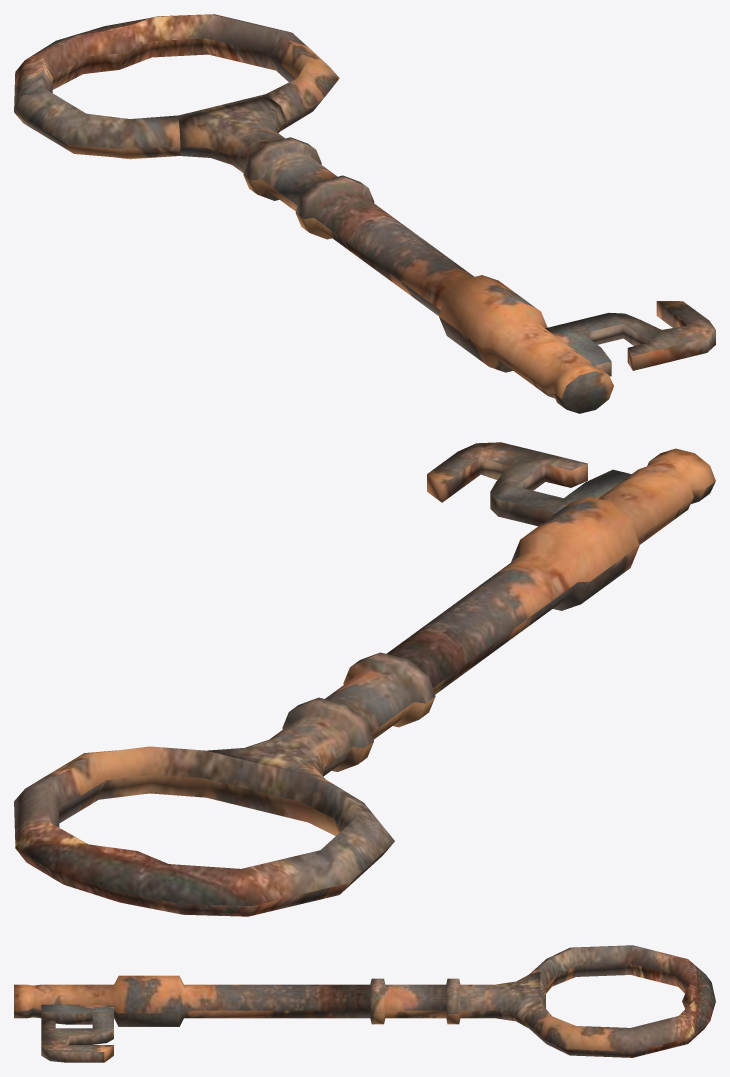
Rendered from key.FBX.
3 renders of one model, top to bottom at view 1: azimuth 30°, elevation 25°; view 2: azimuth 150°, elevation 25°; view 3: azimuth 270°, elevation 25°, orthographic. The views are drawn at different scales.
Visible parts, largest first — view 1: Torus001; view 2: Torus001; view 3: Torus001.
Part boxes in pixels (x1=…): Torus001: x1=14, y1=14, x2=715, y2=413; Torus001: x1=14, y1=442, x2=715, y2=916; Torus001: x1=14, y1=945, x2=715, y2=1062.
Bounding box in the file's own units: 2.87 × 0.5648 × 8.04.
